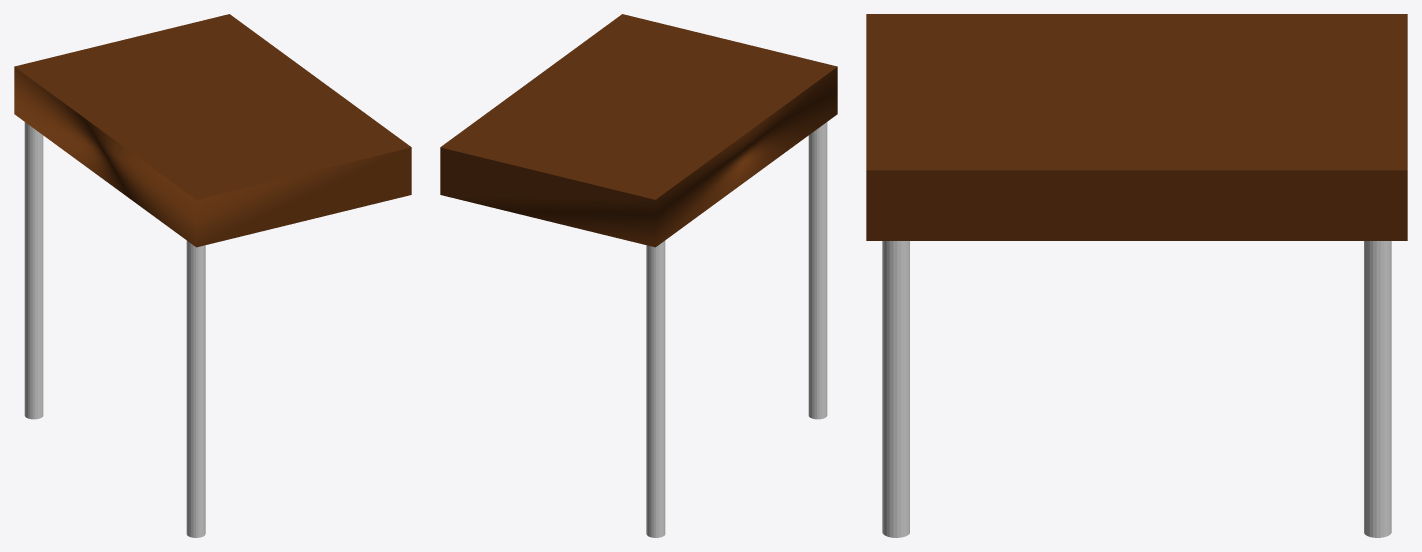
Rendered from entrance N.fbx.
3 views of the same model, side by side, from view 1: azimuth 30°, elevation 25°; view 2: azimuth 150°, elevation 25°; view 3: azimuth 270°, elevation 25° (orthographic). The views are drawn at different scales.
Parts seen in each view (by area): view 1: visor; view 2: visor; view 3: visor.
Boxes of the visible parts, bbox=[...] form: visor: bbox=[14, 14, 411, 537]; visor: bbox=[440, 14, 837, 537]; visor: bbox=[866, 14, 1407, 537].
Size of the model in its own units: 177 by 271 by 260.
